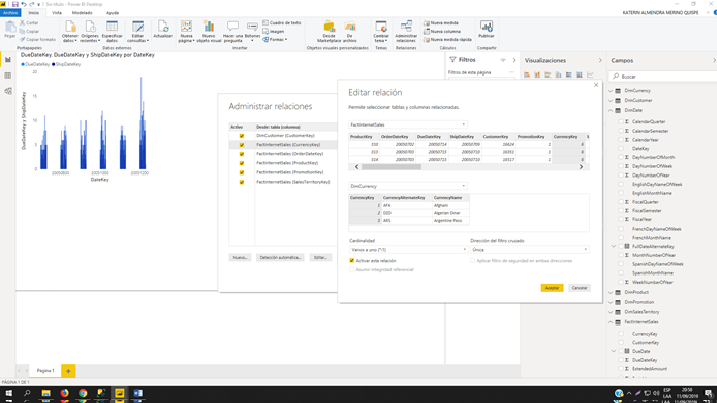

The page's visual inventory and layout, read from the dashboard file:
{"tool":"powerbi","page":{"name":"Página 1","canvas":[1280,720],"ordinal":0},"visuals":[{"type":"clusteredColumnChart","fields":{"Y":["CountNonNull(FactInternetSales.DueDateKey)","CountNonNull(FactInternetSales.DueDateKey)","CountNonNull(FactInternetSales.ShipDateKey)"],"Category":["DimDate.DateKey"]},"box":[10.1,0,450.9,398.3],"z":0},{"type":"clusteredColumnChart","fields":{"Y":["CountNonNull(DimProductSubcategory.CategoryKey)","CountNonNull(DimProductCategory.CategoryKey)"]},"box":[461,0,483.4,360.3],"z":1000}]}

Visuals, with their boxes on the page's 1280x720 design canvas (x1, y1, x2, y2). These are canvas units, not pixel positions in the 717x403 screenshot, which may show the page scaled, cropped or inside an application window:
clusteredColumnChart - CountNonNull(FactInternetSales.DueDateKey) x CountNonNull(FactInternetSales.DueDateKey): region(10, 0, 461, 398)
clusteredColumnChart - CountNonNull(DimProductSubcategory.CategoryKey) x CountNonNull(DimProductCategory.CategoryKey): region(461, 0, 944, 360)
